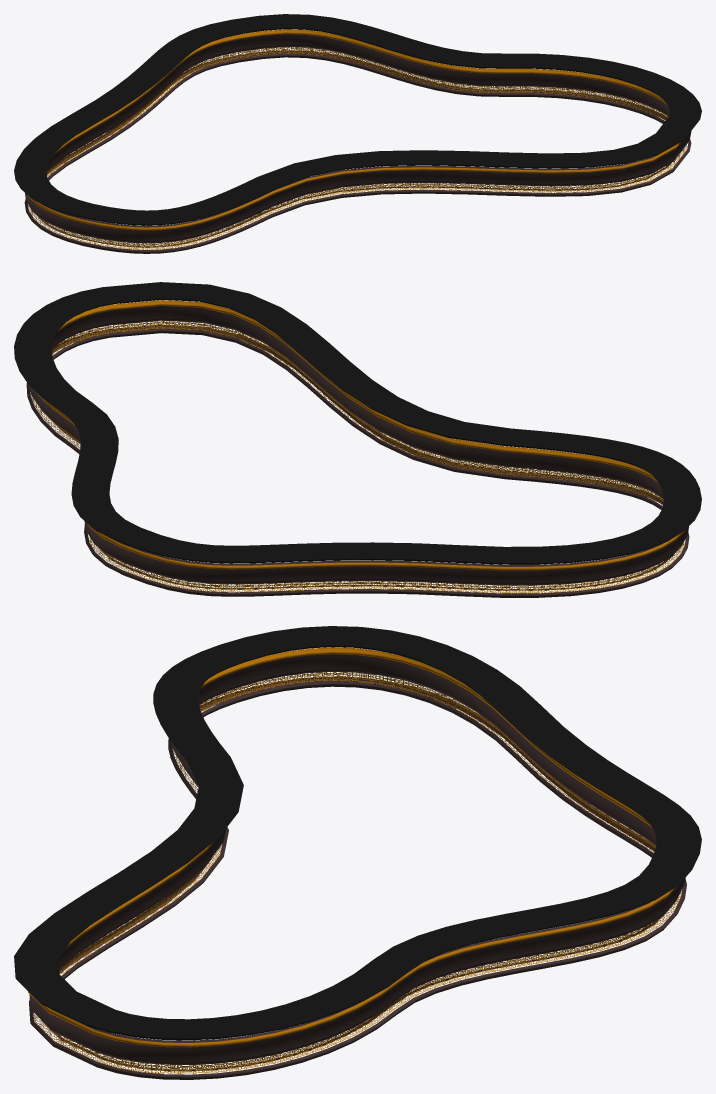
File: Bar Counter Rounded.fbx
The picture shows the model from 3 angles, top to bottom: view 1: azimuth 30°, elevation 25°; view 2: azimuth 150°, elevation 25°; view 3: azimuth 270°, elevation 25°; orthographic projection. The views are drawn at different scales.
Parts seen in each view (by area): view 1: Bar Counter Rounded.002; view 2: Bar Counter Rounded.002; view 3: Bar Counter Rounded.002.
Part boxes in pixels (box(x1,y1,x2,y2)): Bar Counter Rounded.002: box(14, 14, 701, 253); Bar Counter Rounded.002: box(14, 282, 701, 597); Bar Counter Rounded.002: box(14, 626, 701, 1079).
Size of the model in its own units: 2159 by 120 by 1522.
